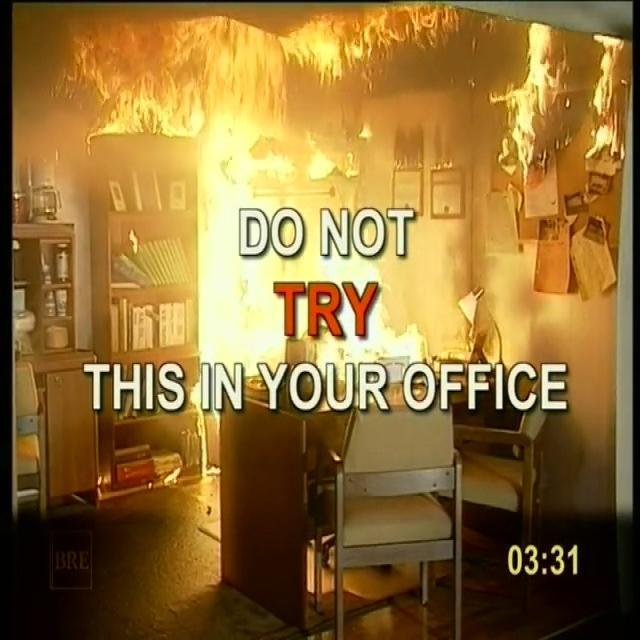Fire: (43, 7, 640, 225)
